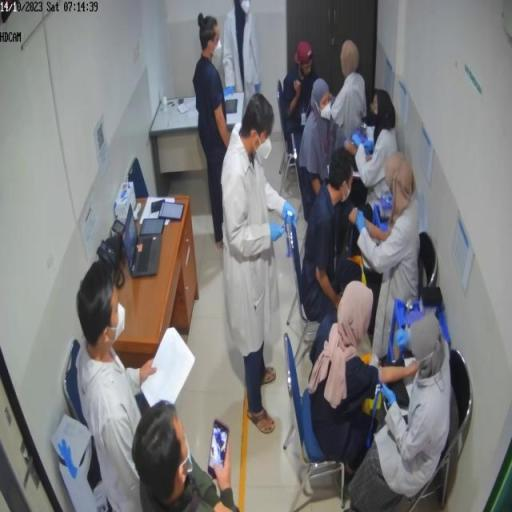person: (222, 96, 298, 437), (309, 281, 419, 475), (347, 309, 452, 510), (77, 260, 159, 509), (357, 153, 422, 361), (133, 402, 241, 511), (302, 149, 364, 334), (193, 17, 232, 253), (347, 89, 400, 224), (299, 78, 346, 223), (224, 1, 264, 117), (284, 41, 321, 148), (330, 40, 368, 142)
